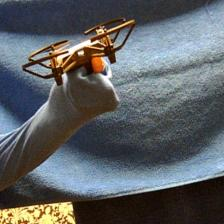drone: (21, 17, 137, 86)
